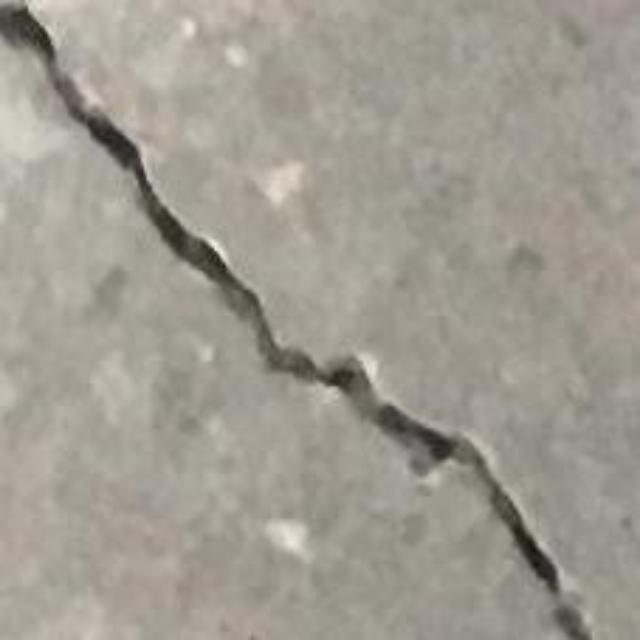crack: (0, 3, 592, 639)
